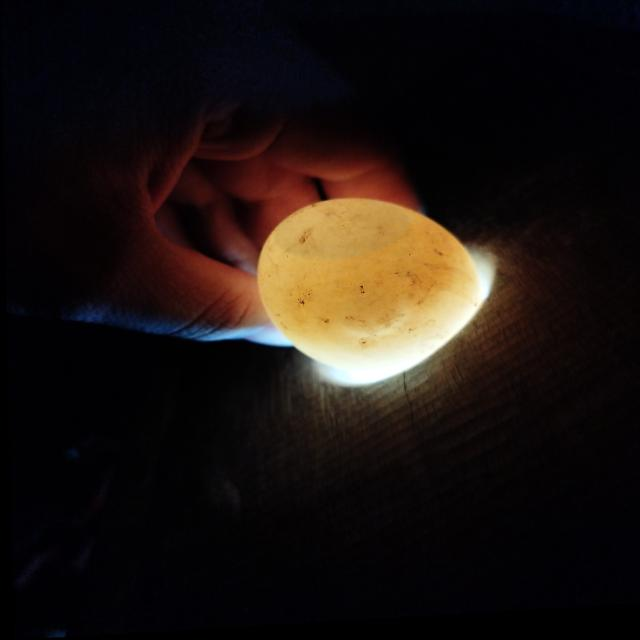Camara de Ar: (271, 202, 410, 263)
